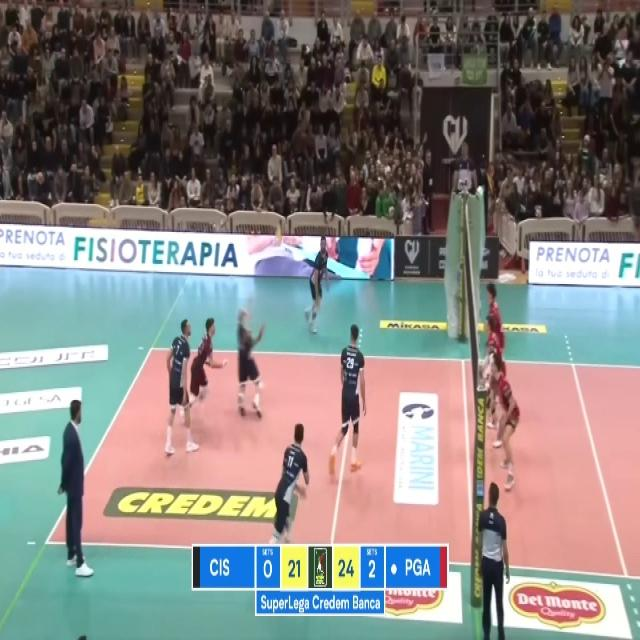volleyball court: (45, 347, 640, 579)
